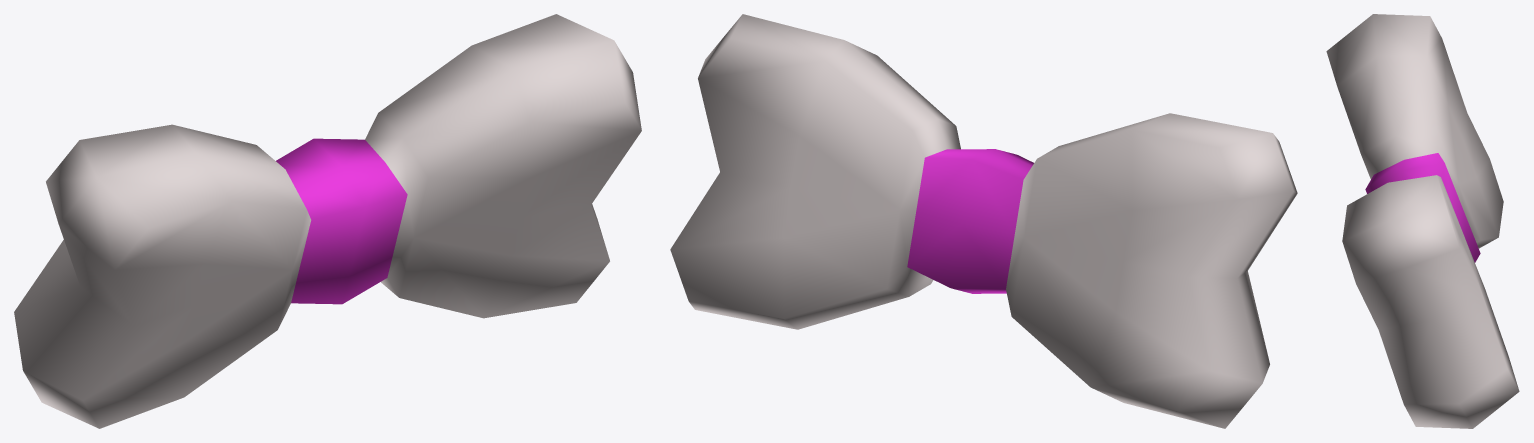
File: mdl_Hat_Bow.fbx
3 renders of one model, left to right at view 1: azimuth 30°, elevation 25°; view 2: azimuth 150°, elevation 25°; view 3: azimuth 270°, elevation 25°, orthographic. The views are drawn at different scales.
Parts seen in each view (by area): view 1: Bow; view 2: Bow; view 3: Bow.
Boxes of the visible parts, <box> form: Bow: <box>14,14,641,428</box>; Bow: <box>670,14,1297,428</box>; Bow: <box>1326,14,1519,428</box>.
Bounding box in the file's own units: 116 × 51.95 × 41.29.
